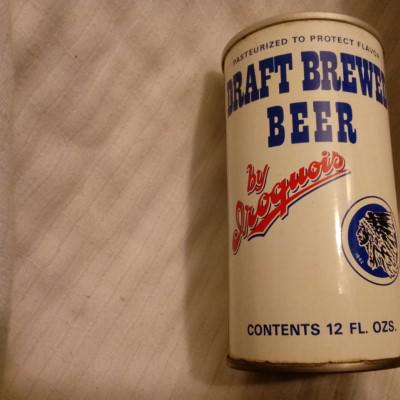beer: (223, 11, 400, 366)
